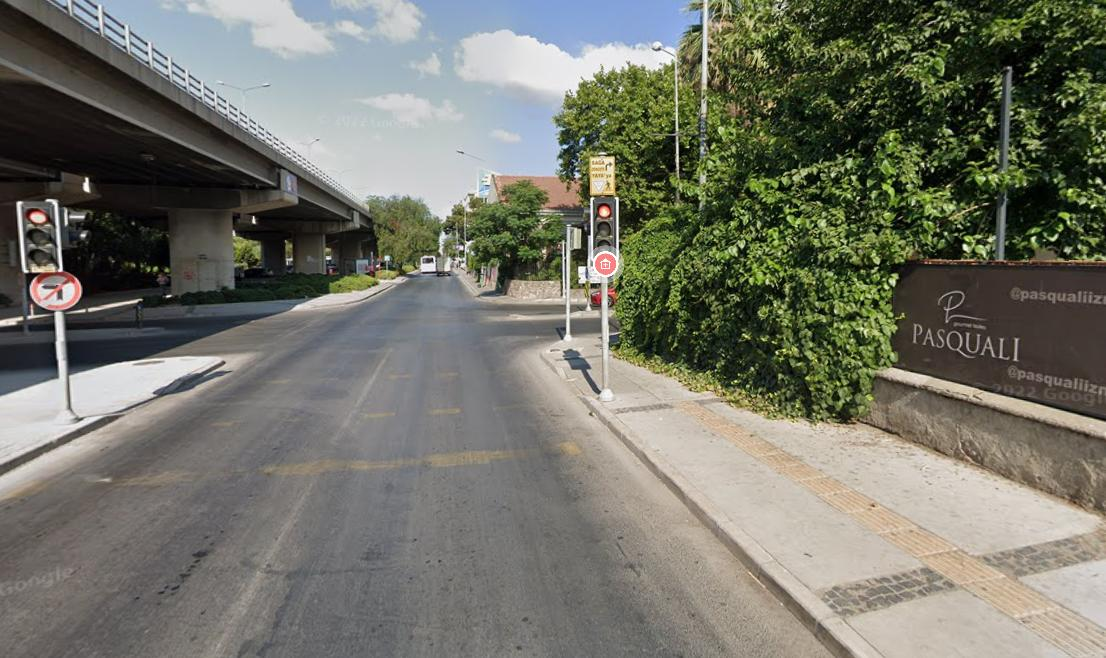leftturnsareforbidden: (32, 274, 77, 310)
redlight: (18, 204, 57, 266), (591, 198, 616, 251)
